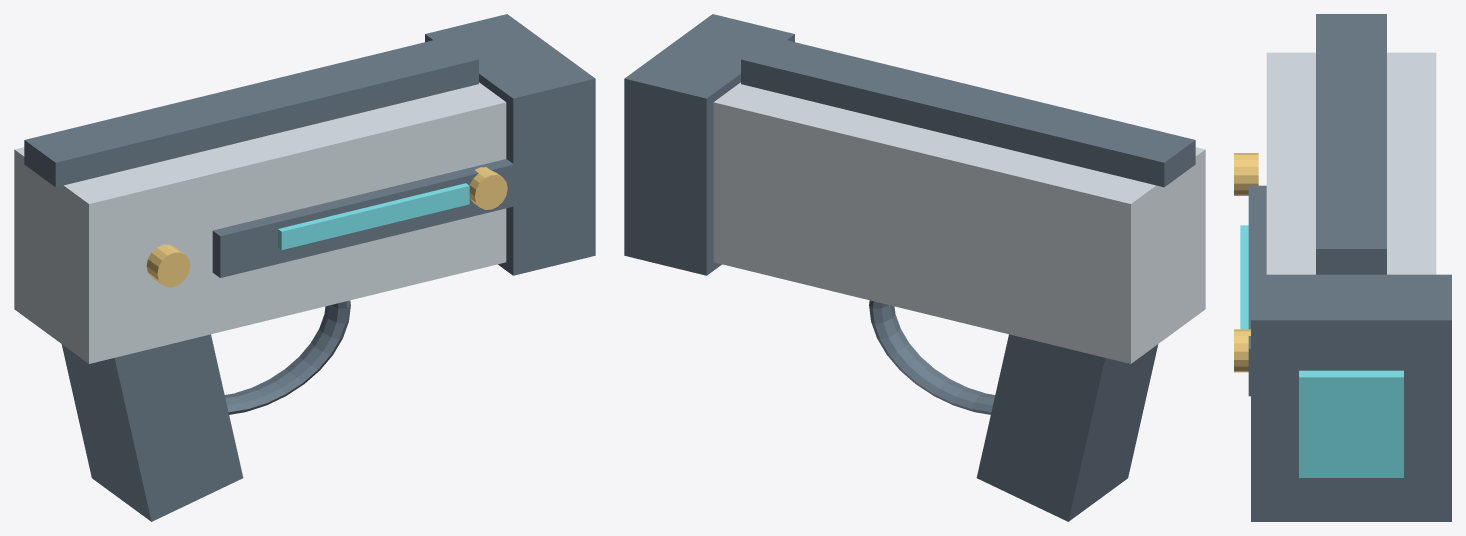
3 renders of one model, left to right at view 1: azimuth 30°, elevation 25°; view 2: azimuth 150°, elevation 25°; view 3: azimuth 270°, elevation 25°, orthographic. The views are drawn at different scales.
Visible parts, largest first — view 1: Corpo digital, Trilho superior, Empunhadura, Bloco frontal fechado, Painel lateral, Luz lateral, Proteção inferior, Rebite ornamental, Rebite ornamental.001; view 2: Corpo digital, Trilho superior, Empunhadura, Bloco frontal fechado, Proteção inferior; view 3: Bloco frontal fechado, Corpo digital, Trilho superior, Cristal frontal, Painel lateral, Rebite ornamental, Luz lateral, Rebite ornamental.001.
Boxes of the visible parts, x1,y1,x2,y2 form: Corpo digital: (14, 82, 506, 363); Trilho superior: (24, 36, 478, 187); Empunhadura: (61, 334, 243, 521); Bloco frontal fechado: (425, 14, 595, 275); Painel lateral: (212, 159, 514, 277); Luz lateral: (278, 183, 469, 249); Proteção inferior: (224, 300, 350, 414); Rebite ornamental: (146, 244, 190, 287); Rebite ornamental.001: (469, 167, 507, 209); Corpo digital: (713, 82, 1205, 363); Trilho superior: (741, 36, 1195, 187); Empunhadura: (976, 334, 1158, 521); Bloco frontal fechado: (624, 14, 794, 275); Proteção inferior: (869, 300, 995, 414); Bloco frontal fechado: (1251, 274, 1451, 521); Corpo digital: (1266, 52, 1436, 274); Trilho superior: (1316, 14, 1386, 274); Cristal frontal: (1299, 370, 1403, 477); Painel lateral: (1248, 185, 1266, 396); Rebite ornamental: (1234, 153, 1258, 195); Luz lateral: (1240, 225, 1248, 329); Rebite ornamental.001: (1234, 329, 1250, 372).
Bounding box in the file's own units: 2.23 × 1.5 × 0.705.
